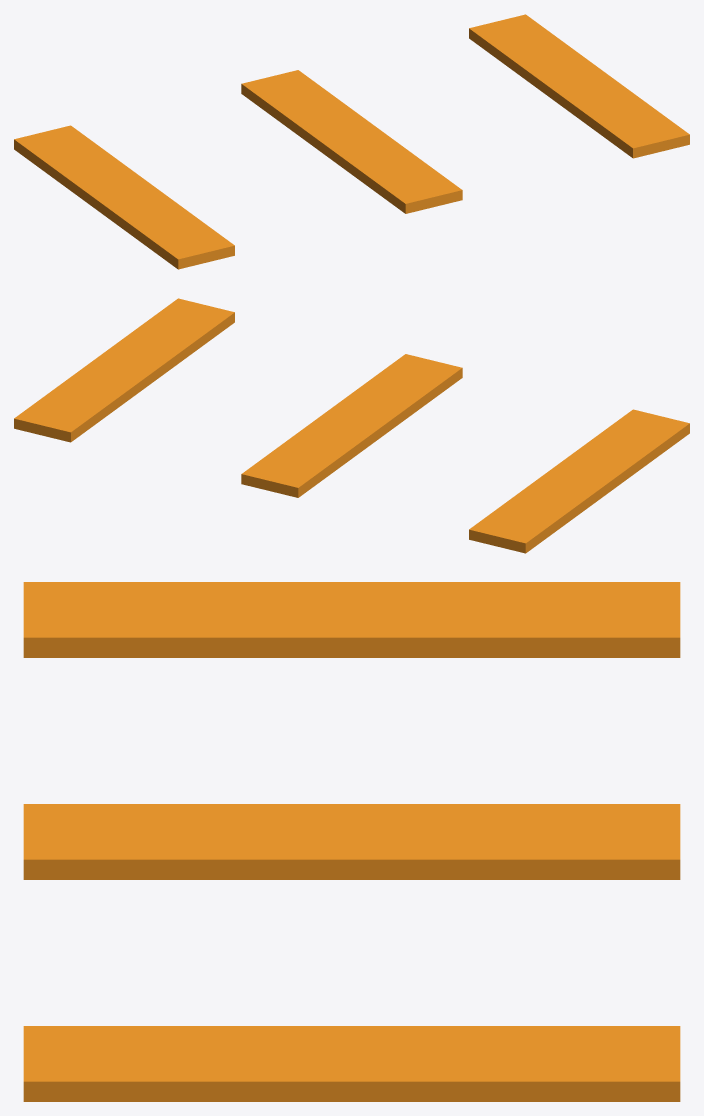
File: 092_L101_Link_Health_Fault_Overlay.glb
3 renders of one model, top to bottom at view 1: azimuth 30°, elevation 25°; view 2: azimuth 150°, elevation 25°; view 3: azimuth 270°, elevation 25°, orthographic. The views are drawn at different scales.
Parts seen in each view (by area): view 1: Fault_Visual_Chip_01_1, Fault_Visual_Chip_00_0, Fault_Visual_Chip_02_2; view 2: Fault_Visual_Chip_01_1, Fault_Visual_Chip_00_0, Fault_Visual_Chip_02_2; view 3: Fault_Visual_Chip_00_0, Fault_Visual_Chip_01_1, Fault_Visual_Chip_02_2.
Part boxes in pixels (<box>): Fault_Visual_Chip_01_1: <box>241,70,462,213</box>; Fault_Visual_Chip_00_0: <box>14,125,234,269</box>; Fault_Visual_Chip_02_2: <box>469,14,689,158</box>; Fault_Visual_Chip_01_1: <box>241,354,462,497</box>; Fault_Visual_Chip_00_0: <box>469,409,689,553</box>; Fault_Visual_Chip_02_2: <box>14,298,234,442</box>; Fault_Visual_Chip_00_0: <box>23,582,680,657</box>; Fault_Visual_Chip_01_1: <box>23,804,680,879</box>; Fault_Visual_Chip_02_2: <box>23,1026,680,1101</box>.
Size of the model in its own units: 0.009 by 0.00017 by 0.005.
